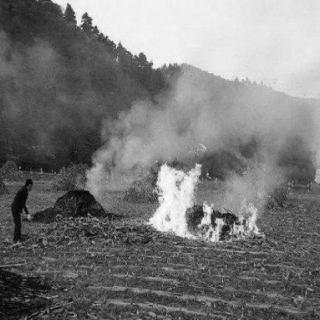Fire: (142, 157, 224, 241), (226, 199, 266, 245), (197, 139, 207, 151)
Smoke: (94, 108, 186, 180), (264, 85, 318, 148), (235, 159, 281, 203)
